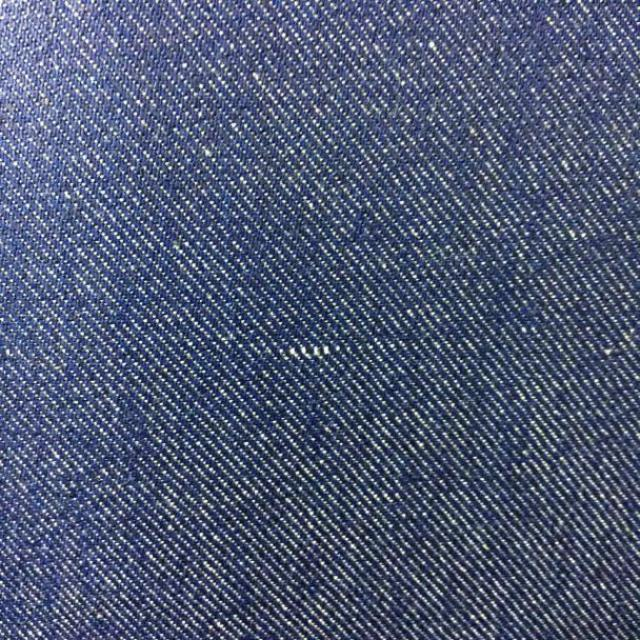Knot: (280, 344, 341, 361)
